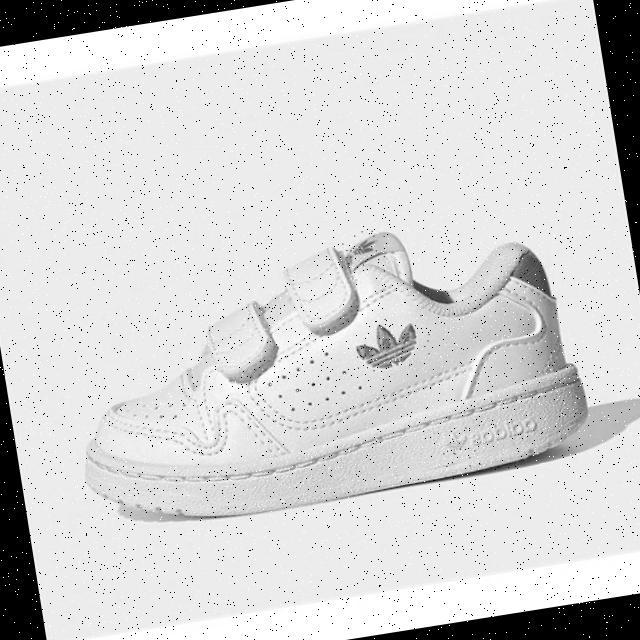Adidas: (348, 312, 435, 382), (341, 227, 391, 277), (440, 423, 481, 470)
